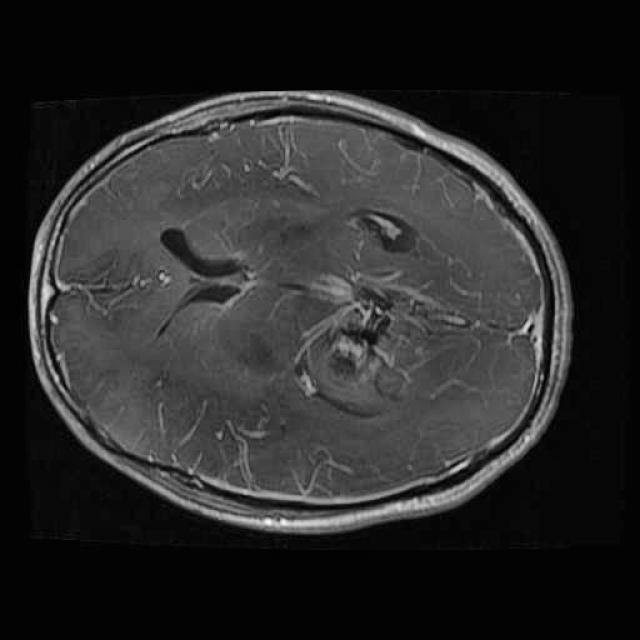Tumor: (292, 258, 430, 437)
